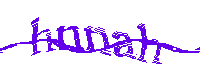a: (112, 30, 135, 61)
h: (137, 23, 162, 65), (30, 16, 54, 55)
n: (85, 25, 110, 55), (58, 25, 82, 53)
